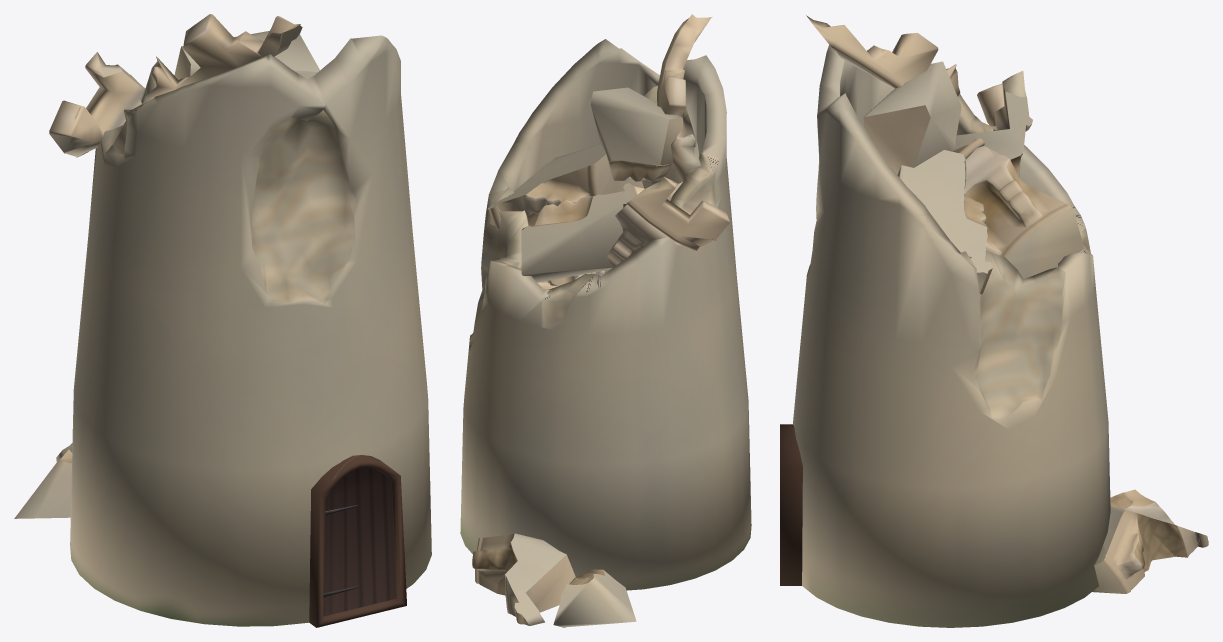
Rendered from TowerDestroyed.gltf.
3 renders of one model, left to right at view 1: azimuth 30°, elevation 25°; view 2: azimuth 150°, elevation 25°; view 3: azimuth 270°, elevation 25°, orthographic. The views are drawn at different scales.
Parts seen in each view (by area): view 1: Cylinder.000; view 2: Cylinder.000; view 3: Cylinder.000.
Part boxes in pixels (x1,y1,x2,y2): Cylinder.000: (14, 14, 431, 627); Cylinder.000: (460, 14, 751, 627); Cylinder.000: (780, 15, 1208, 627).
Bounding box in the file's own units: 5.68 × 9.74 × 7.09.
Materials: 1 (1 with a texture image).
